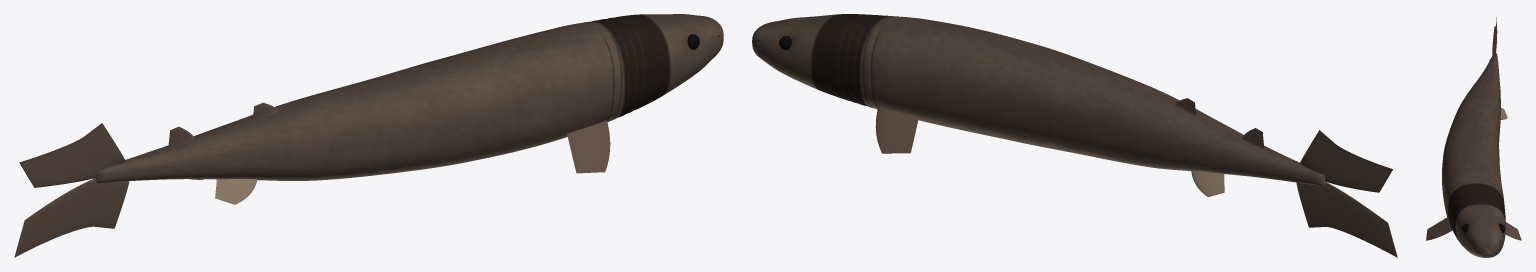
The model's file is cookiecutter_shark.glb.
3 views of the same model, side by side, from view 1: azimuth 30°, elevation 25°; view 2: azimuth 150°, elevation 25°; view 3: azimuth 270°, elevation 25° (orthographic). The views are drawn at different scales.
Visible parts, largest first — view 1: CookiecutterShark_Body, CookiecutterShark_Fins; view 2: CookiecutterShark_Body, CookiecutterShark_Fins; view 3: CookiecutterShark_Body, CookiecutterShark_Fins, CookiecutterShark_Eyes.
Boxes of the visible parts, x1,y1,x2,y2 form: CookiecutterShark_Body: [94, 14, 723, 183]; CookiecutterShark_Fins: [14, 102, 610, 257]; CookiecutterShark_Body: [752, 14, 1326, 186]; CookiecutterShark_Fins: [875, 98, 1397, 257]; CookiecutterShark_Body: [1442, 53, 1505, 257]; CookiecutterShark_Fins: [1426, 17, 1521, 240]; CookiecutterShark_Eyes: [1462, 223, 1505, 232].
Bounding box in the file's own units: 0.45 × 0.0733 × 0.0841.
3 materials, 1 textured.
